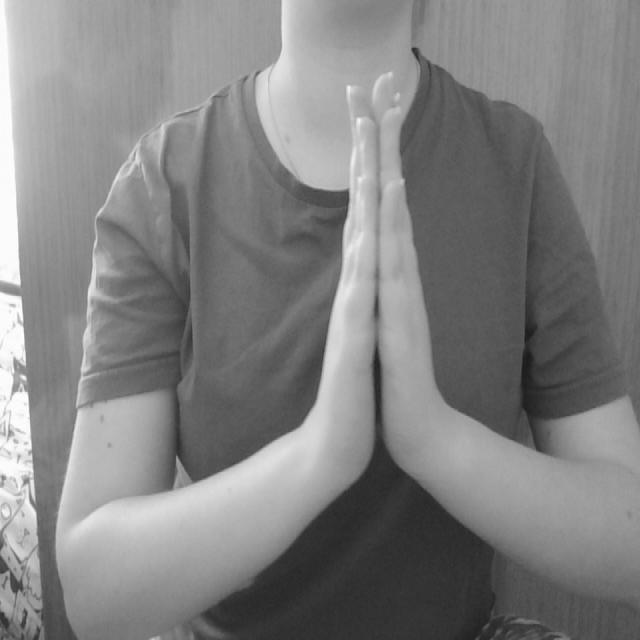Ozur-Dilemek: (304, 59, 454, 488)
